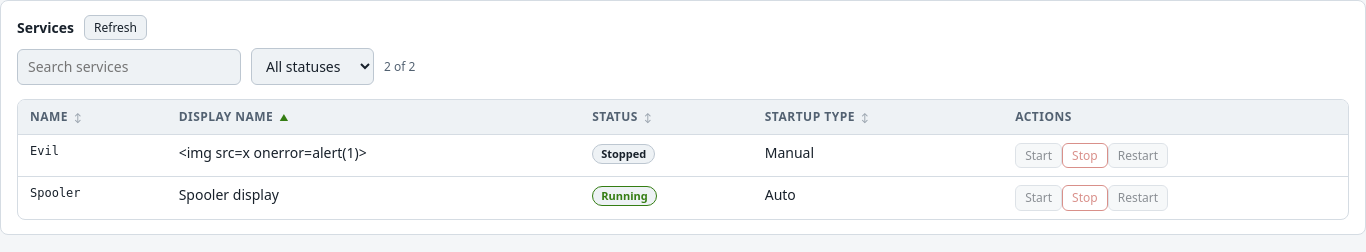
Services tab › search and status filters narrow the list; server text is shown as text
This screenshot has width=1366, height=252.
Expected: the text "<img src=x onerror=alert(1)>" is shown, [167,134,580,177]
Step 1. Select "Running" in the dropdown named "Status filter" → [312, 67], box [251,48,374,85]
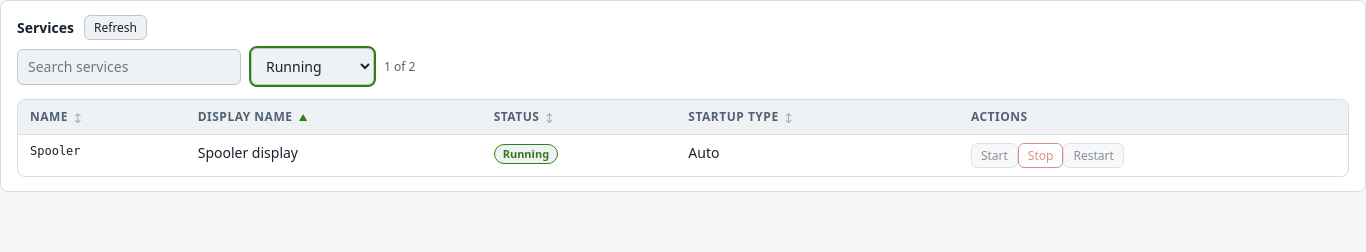
Expected: the text "Evil" is gone
Step 2. Select "All statuses" in the dropdown named "Status filter" → [312, 67], box [251,48,374,85]
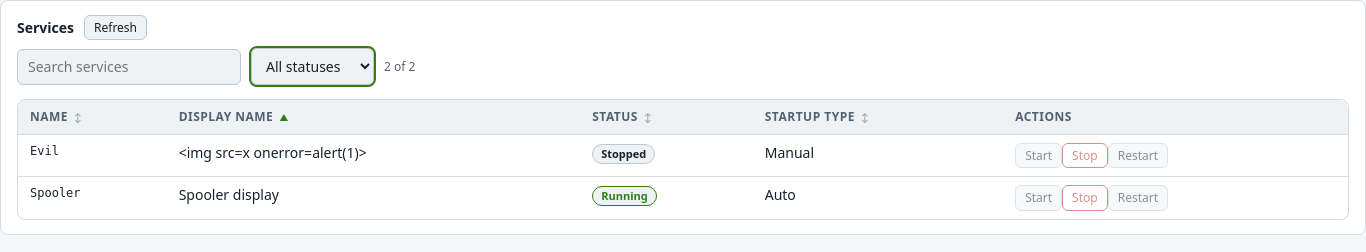
Step 3. Type "spool" into the search field labelled "Search services" → [129, 67], box [17,49,241,85]
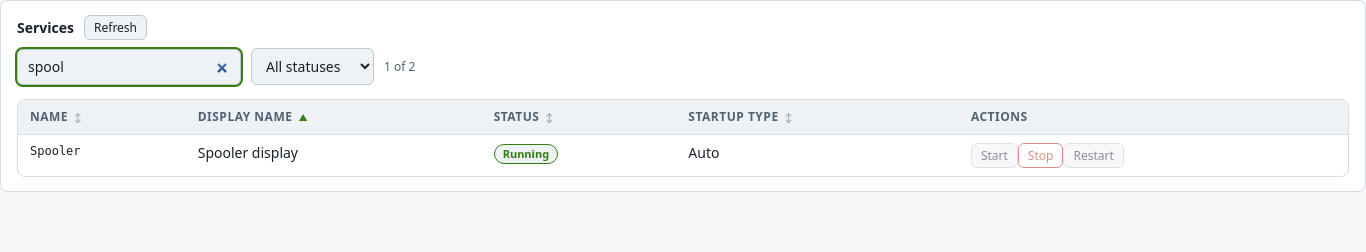
Expected: the text "Spooler" is shown, [18,134,186,176]
Expected: the text "Evil" is gone
